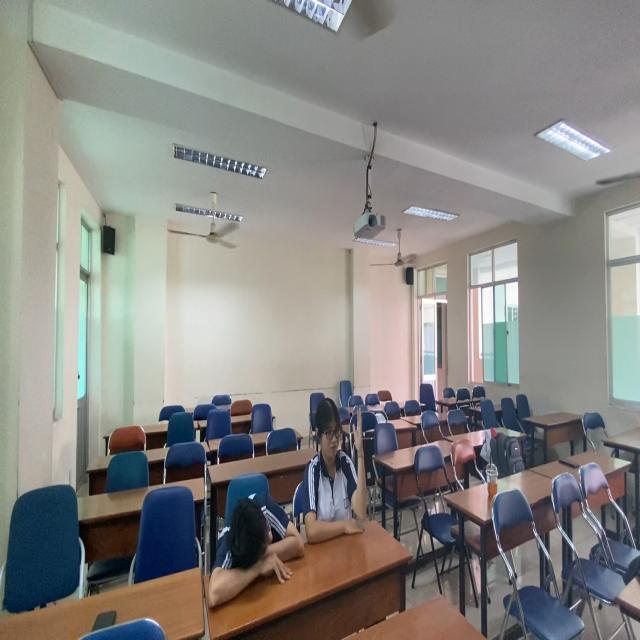raise_hand: (307, 393, 374, 550)
sleep: (201, 489, 308, 619)
